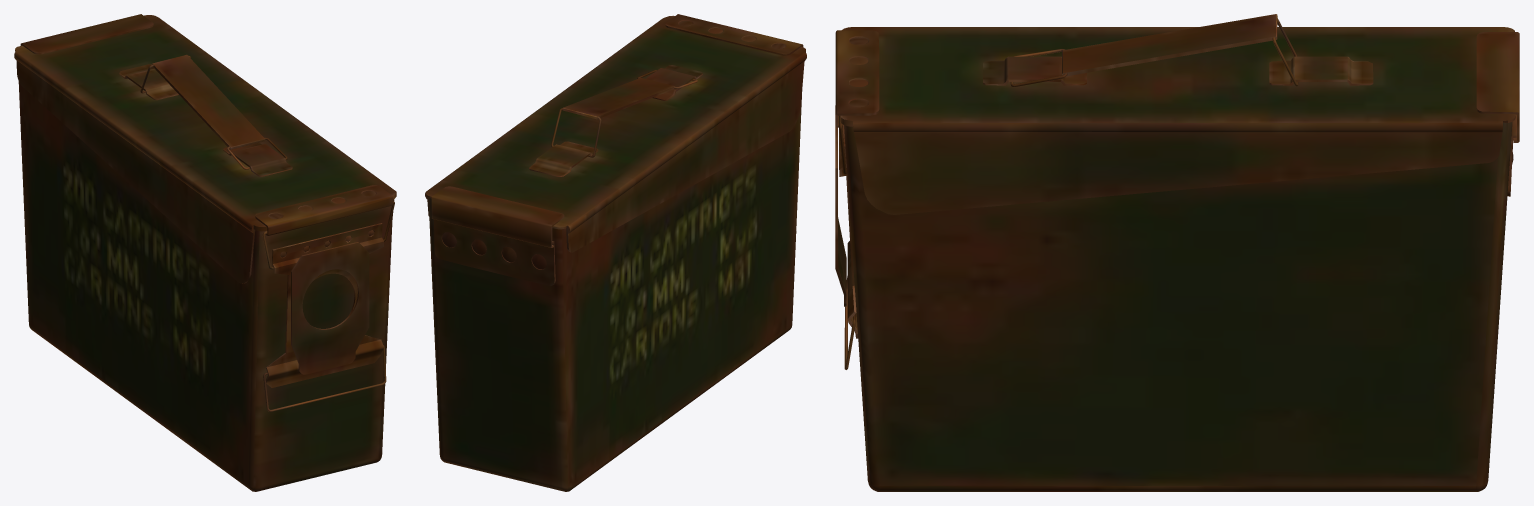
Rendered from ammo_box.glb.
The picture shows the model from 3 angles, left to right: view 1: azimuth 30°, elevation 25°; view 2: azimuth 150°, elevation 25°; view 3: azimuth 270°, elevation 25°; orthographic projection. The views are drawn at different scales.
Parts seen in each view (by area): view 1: ammo_box, ammo_box_handle, ammo_box_latch; view 2: ammo_box, ammo_box_handle; view 3: ammo_box, ammo_box_handle.
Boxes of the visible parts, x1,y1,x2,y2 form: ammo_box: (14,14,396,491); ammo_box_handle: (152,54,265,149); ammo_box_latch: (263,345,386,411); ammo_box: (425,14,806,491); ammo_box_handle: (562,78,675,119); ammo_box: (835,27,1519,491); ammo_box_handle: (1062,14,1277,76).
Size of the model in its own units: 0.0865 by 0.1775 by 0.2578.
Materials: 1 (1 with a texture image).
